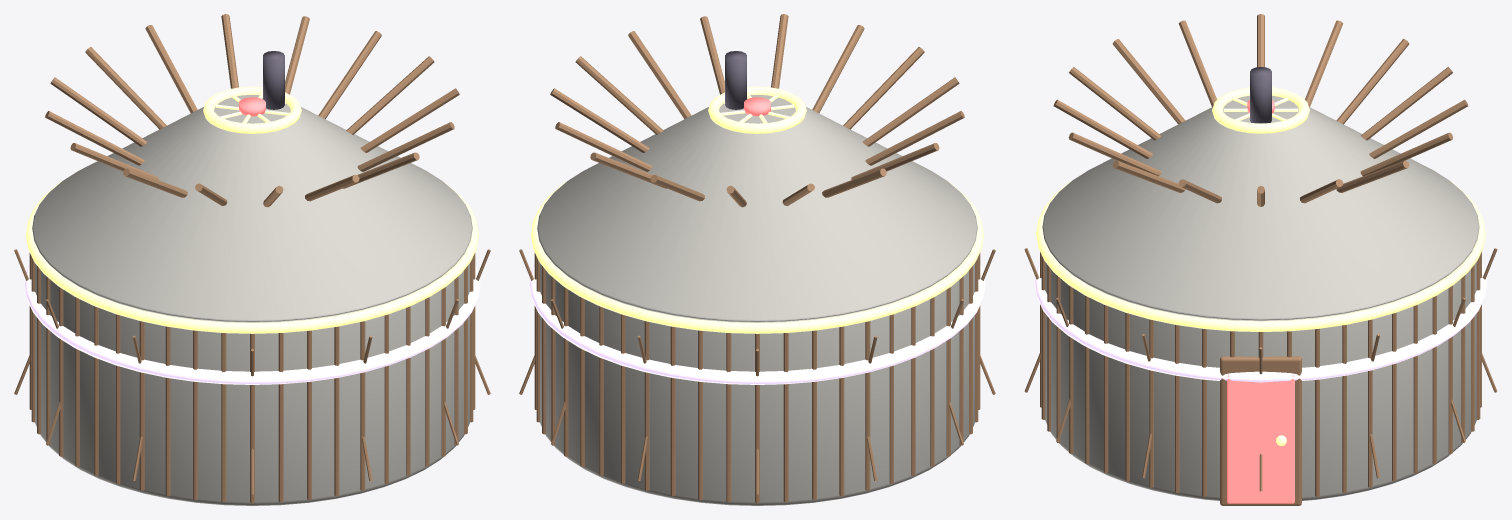
The model's file is ger.glb.
The picture shows the model from 3 angles, left to right: view 1: azimuth 30°, elevation 25°; view 2: azimuth 150°, elevation 25°; view 3: azimuth 270°, elevation 25°; orthographic projection.
Parts seen in each view (by area): view 1: Ger_roof, Ger_body, Ger_band, Ger_topband, Ger_toono_ring, Ger_chimney, Ger_uni_0, Ger_uni_6, Ger_uni_5, Ger_lattice_v_29, Ger_lattice_v_35, Ger_lattice_v_31 (+30 smaller); view 2: Ger_roof, Ger_body, Ger_band, Ger_topband, Ger_toono_ring, Ger_chimney, Ger_uni_0, Ger_uni_10, Ger_uni_11, Ger_lattice_v_13, Ger_lattice_v_19, Ger_lattice_v_15 (+30 smaller); view 3: Ger_roof, Ger_body, Ger_door, Ger_band, Ger_topband, Ger_door_frame, Ger_toono_ring, Ger_chimney, Ger_uni_11, Ger_uni_5, Ger_uni_10, Ger_uni_6 (+28 smaller).
Part boxes in pixels (box(x1,y1,x2,y2)): Ger_roof: box(32, 94, 472, 321); Ger_body: box(35, 263, 469, 505); Ger_band: box(24, 265, 480, 384); Ger_topband: box(26, 181, 478, 333); Ger_toono_ring: box(203, 86, 301, 133); Ger_chimney: box(263, 51, 284, 109); Ger_uni_0: box(346, 56, 434, 134); Ger_uni_6: box(50, 77, 146, 146); Ger_uni_5: box(85, 47, 166, 129); Ger_lattice_v_29: box(165, 326, 170, 496); Ger_lattice_v_35: box(334, 326, 339, 496); Ger_lattice_v_31: box(221, 333, 226, 502); Ger_roof: box(537, 94, 977, 321); Ger_body: box(540, 263, 974, 505); Ger_band: box(529, 265, 985, 384); Ger_topband: box(531, 181, 983, 333); Ger_toono_ring: box(708, 86, 806, 133); Ger_chimney: box(725, 51, 746, 109); Ger_uni_0: box(575, 56, 663, 134); Ger_uni_10: box(863, 77, 959, 146); Ger_uni_11: box(843, 47, 924, 129); Ger_lattice_v_13: box(670, 326, 675, 496); Ger_lattice_v_19: box(839, 326, 844, 496); Ger_lattice_v_15: box(726, 333, 731, 502); Ger_roof: box(1042, 95, 1479, 320); Ger_body: box(1045, 262, 1476, 500); Ger_door: box(1227, 375, 1294, 503); Ger_band: box(1035, 263, 1486, 382); Ger_topband: box(1036, 181, 1485, 331); Ger_door_frame: box(1220, 356, 1301, 505); Ger_toono_ring: box(1212, 87, 1309, 133); Ger_chimney: box(1250, 67, 1271, 123); Ger_uni_11: box(1069, 67, 1160, 140); Ger_uni_5: box(1361, 67, 1452, 140); Ger_uni_10: box(1112, 39, 1185, 124); Ger_uni_6: box(1336, 39, 1409, 124).
Size of the model in its own units: 3.47 by 2.85 by 3.47.
